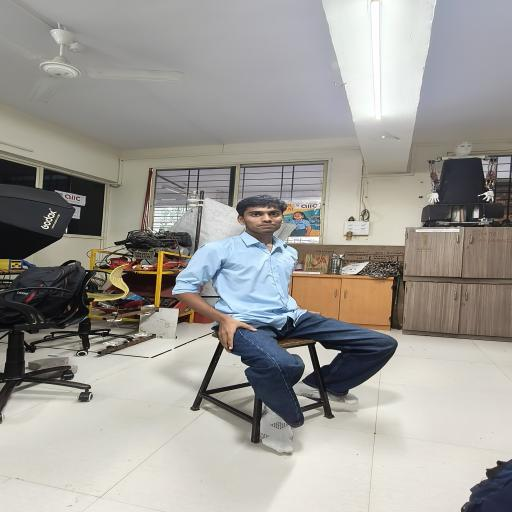survivor: (171, 195, 399, 454)
